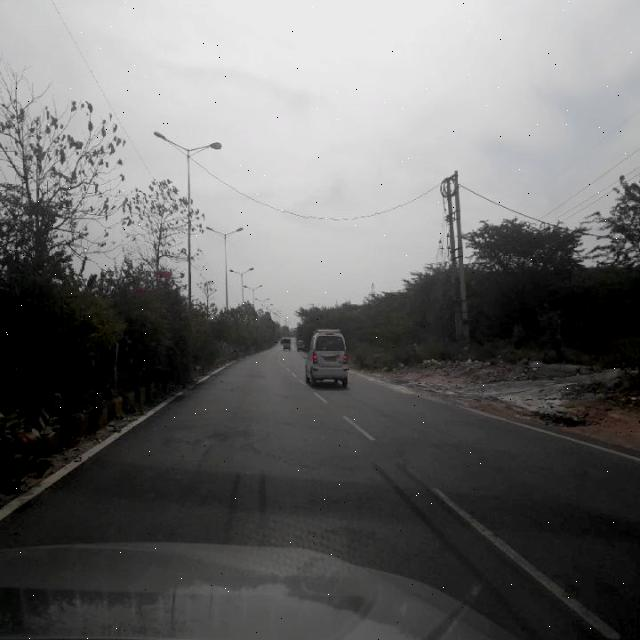D00: (370, 448, 525, 601), (224, 459, 271, 545)
D40: (180, 422, 232, 453)
